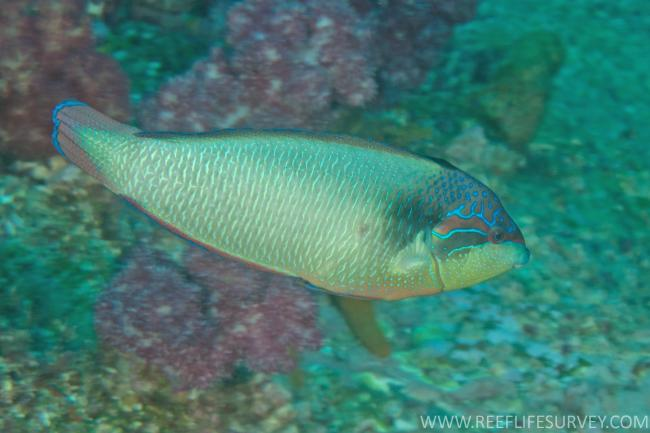fish: (53, 99, 533, 301)
